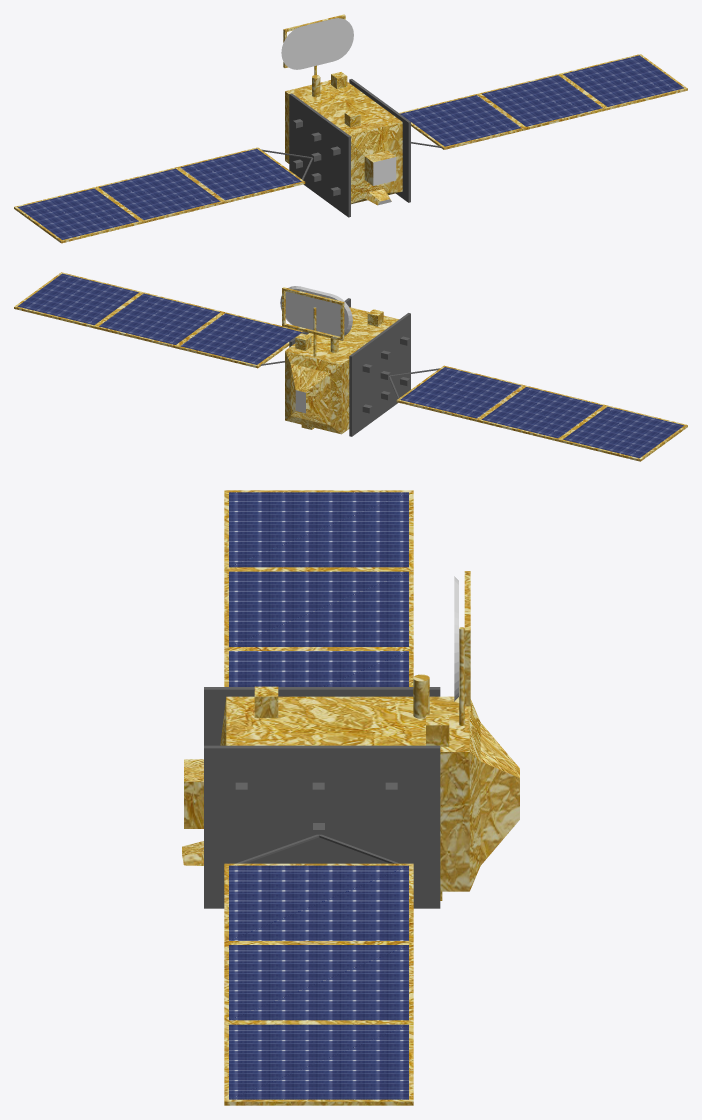
Rendered from Satellite.FBX.
3 renders of one model, top to bottom at view 1: azimuth 30°, elevation 25°; view 2: azimuth 150°, elevation 25°; view 3: azimuth 270°, elevation 25°, orthographic. The views are drawn at different scales.
Visible parts, largest first — view 1: Satellite; view 2: Satellite; view 3: Satellite.
Boxes of the visible parts, left/top/right/bottom form: Satellite: left=14, top=14, right=687, bottom=243; Satellite: left=14, top=272, right=687, bottom=461; Satellite: left=182, top=490, right=519, bottom=1105.
Size of the model in its own units: 61.26 by 14.15 by 14.3.
